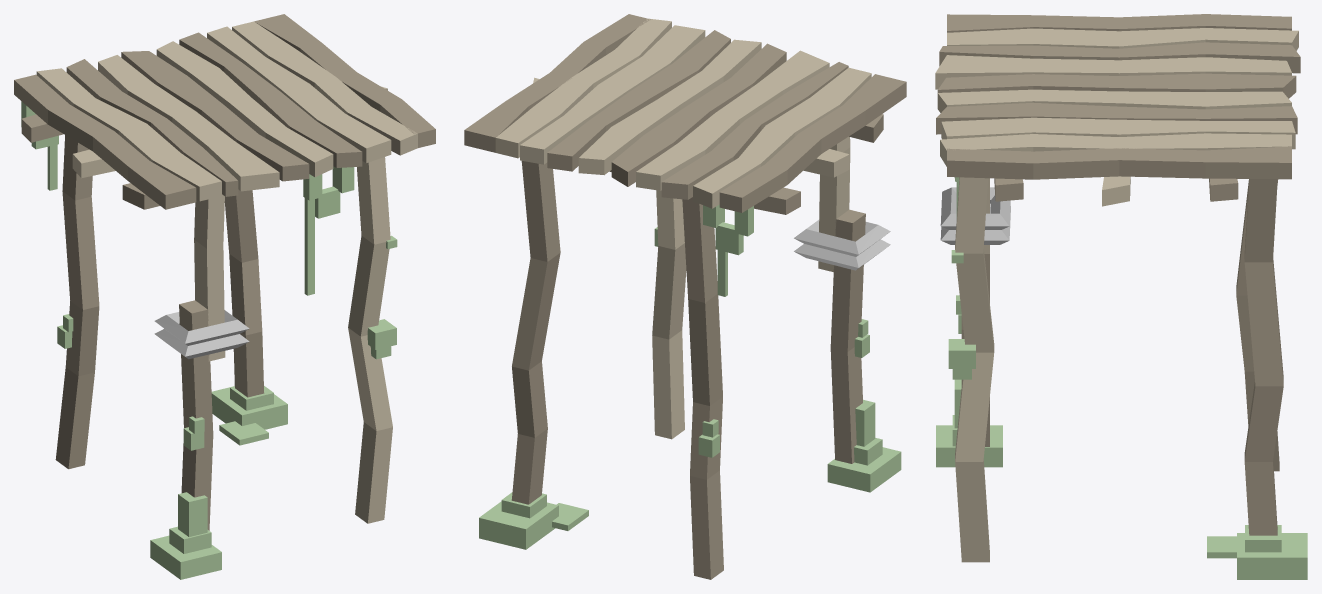
The model's file is WoodTower.fbx.
The picture shows the model from 3 angles, left to right: view 1: azimuth 30°, elevation 25°; view 2: azimuth 150°, elevation 25°; view 3: azimuth 270°, elevation 25°; orthographic projection. The views are drawn at different scales.
Parts seen in each view (by area): view 1: Platform; view 2: Platform; view 3: Platform.
Part boxes in pixels (box(x1,y1,x2,y2)): Platform: box(14, 14, 435, 579); Platform: box(464, 14, 906, 579); Platform: box(935, 14, 1307, 579).
Bounding box in the file's own units: 107 × 129 × 101.
